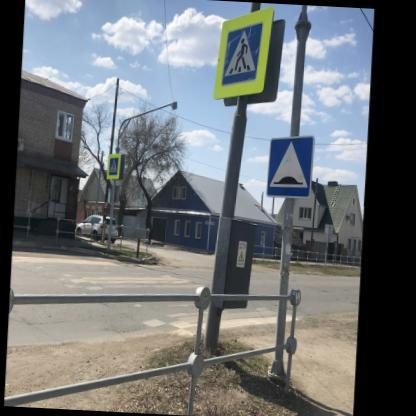road_sign: (214, 7, 283, 105), (268, 138, 313, 196), (104, 153, 124, 180)
